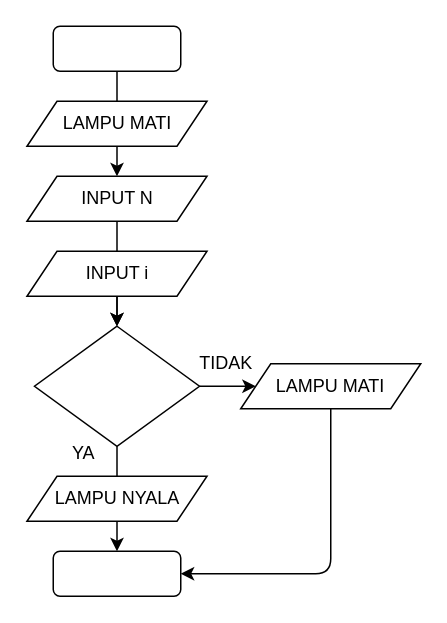
This 447x623 diagram has some shape labels left out. The centre of each missing label's shape, as x and y in pixels:
"MULAI" goes at (116,48).
"N % i == 0" goes at (116,385).
"SELESAI" goes at (116,573).
